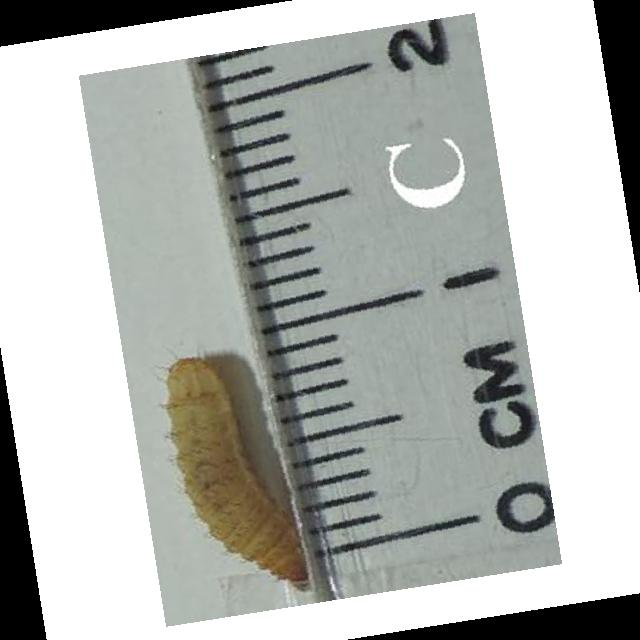Maggot: (164, 354, 312, 592)
